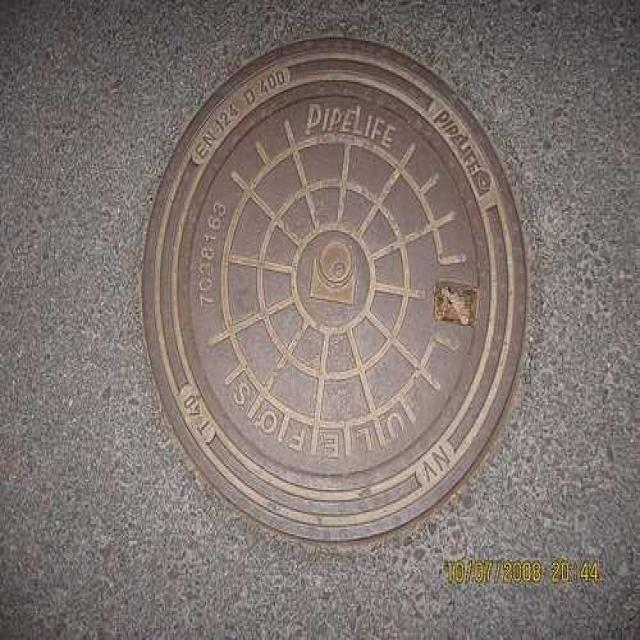manhole: (142, 38, 526, 541)
